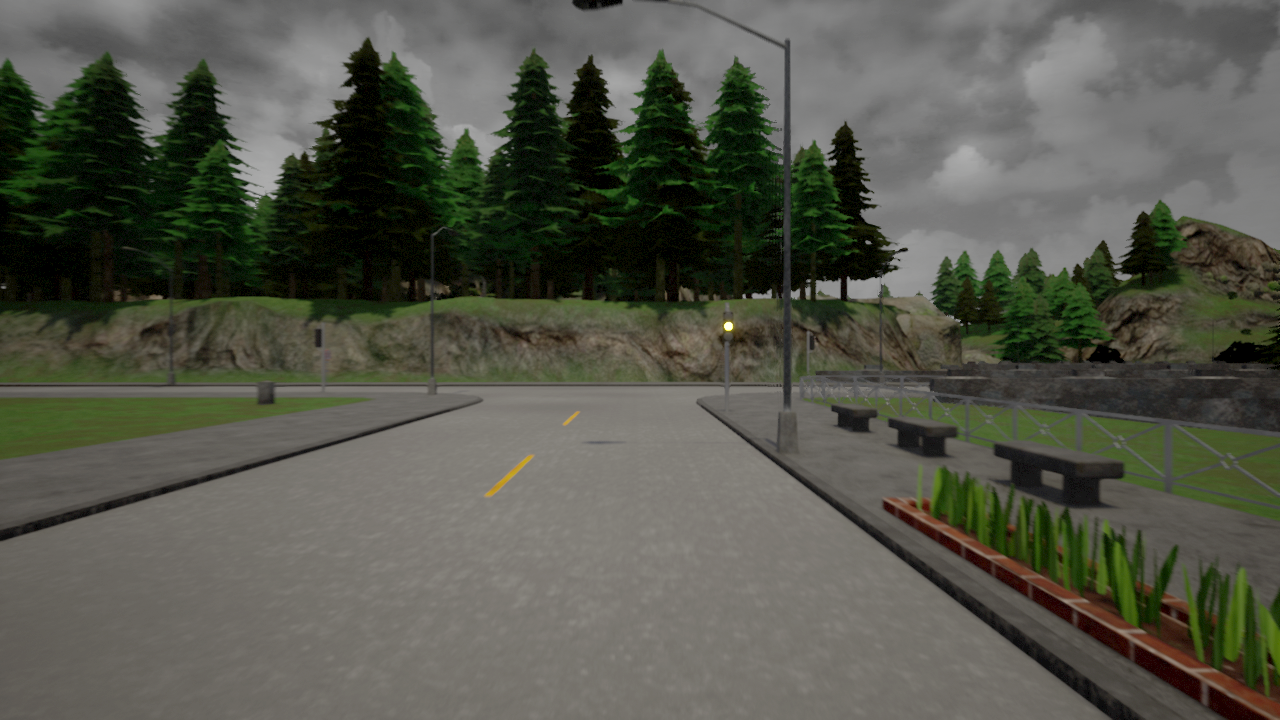yellow: (722, 310, 734, 343)
